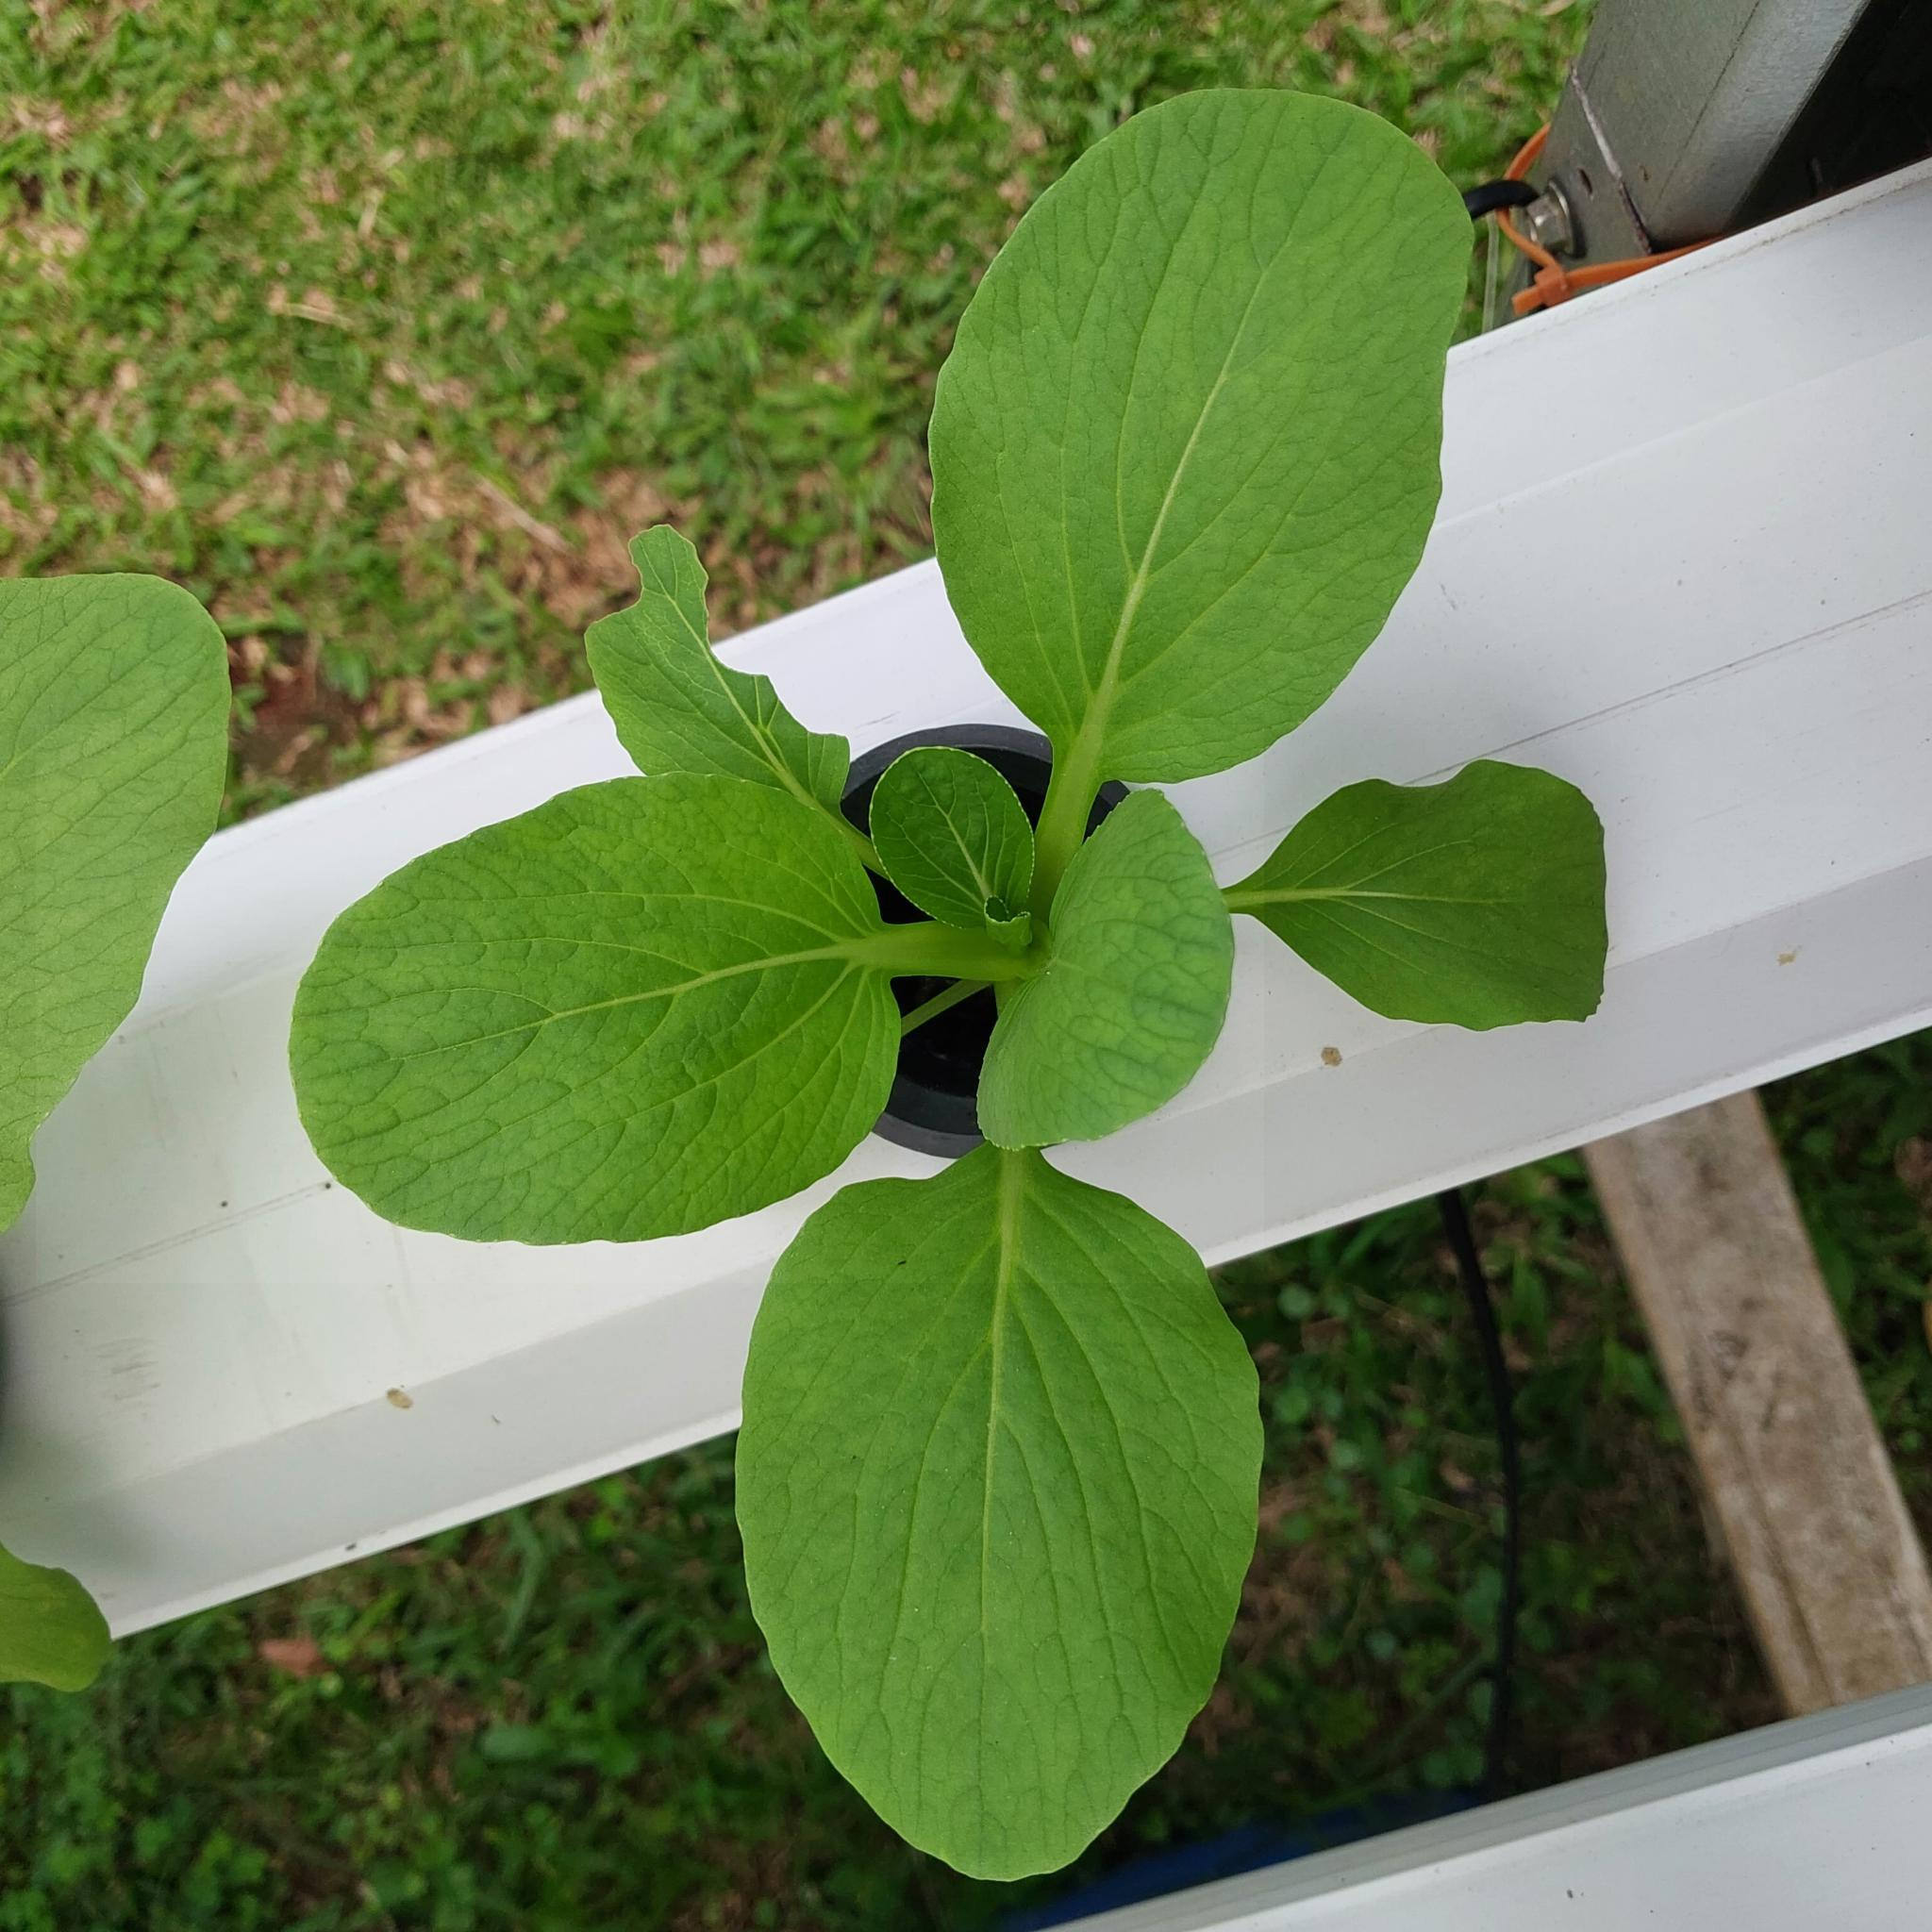Healthy-Pechay: (947, 65, 1490, 957), (754, 1143, 1224, 1874), (257, 764, 922, 1244), (0, 575, 235, 1253), (1224, 763, 1615, 1031), (977, 793, 1224, 1143), (579, 518, 847, 826), (1254, 793, 1486, 902), (626, 524, 713, 609), (1454, 1559, 1507, 1652), (1504, 1253, 1552, 1345)
